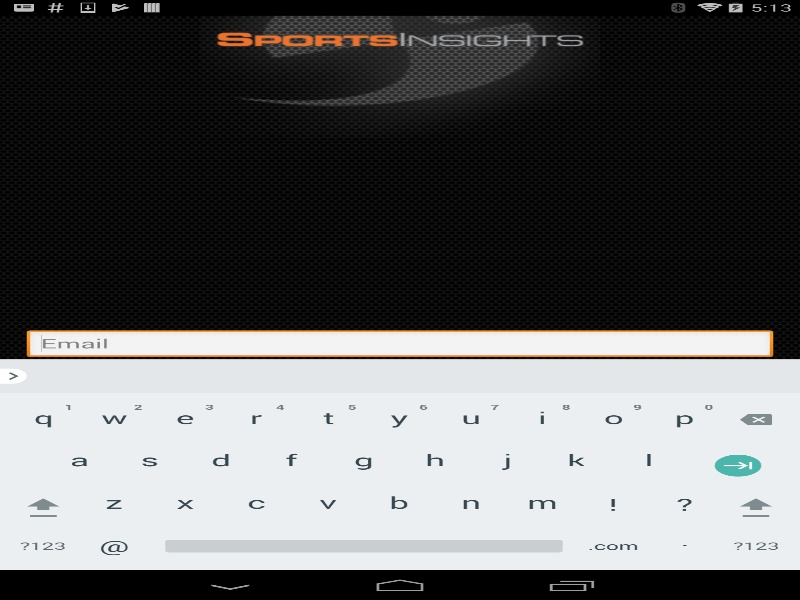Button: (294, 420, 505, 450), (311, 450, 488, 480), (340, 390, 459, 420)
Input: (26, 330, 773, 360), (26, 360, 773, 390)
